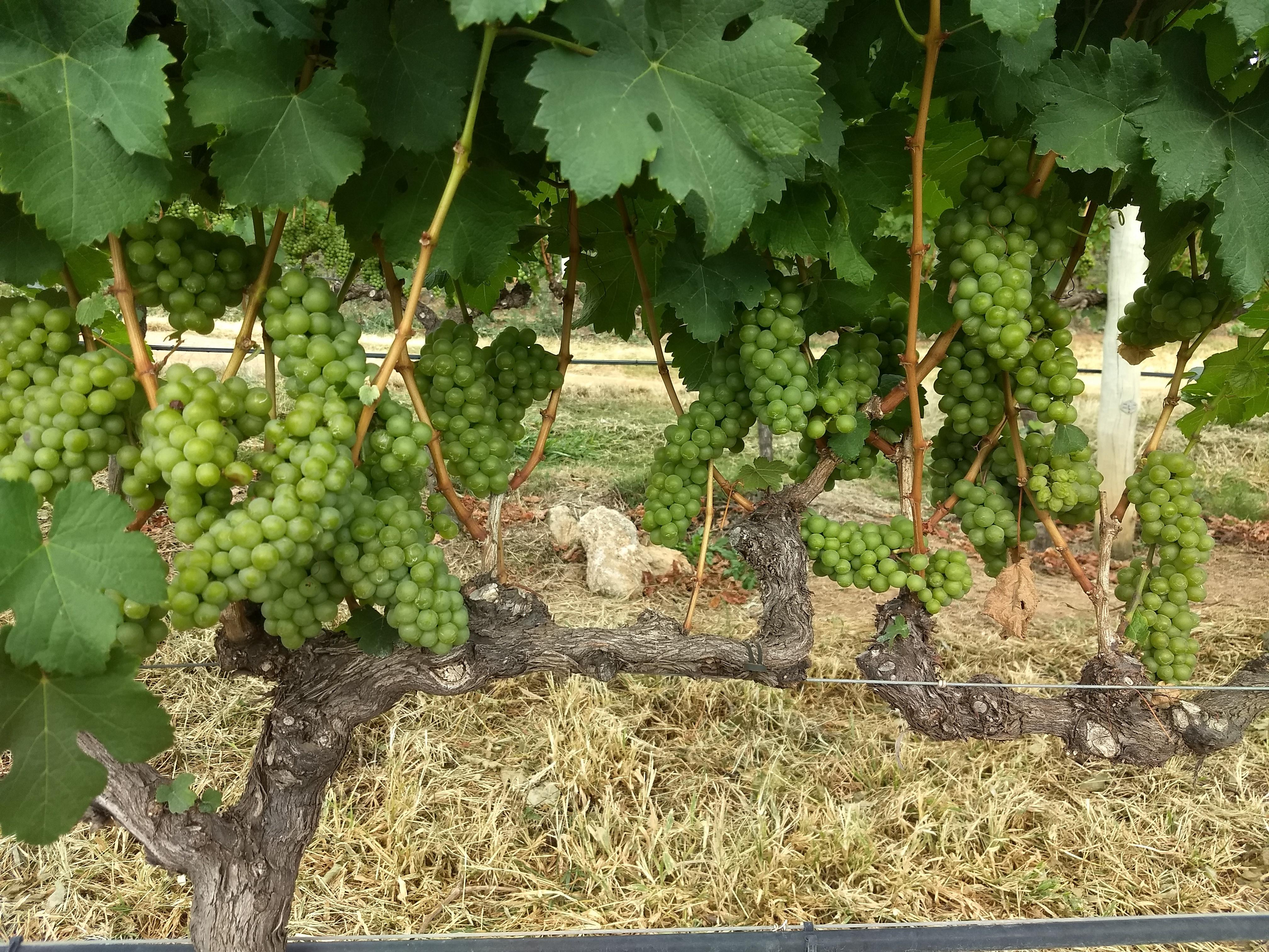leaf: (528, 0, 821, 253), (0, 0, 172, 247), (0, 630, 172, 843), (1132, 32, 1268, 295), (0, 480, 166, 674), (185, 32, 367, 206), (332, 0, 477, 151), (1032, 38, 1163, 171), (653, 221, 769, 342), (177, 0, 316, 55), (488, 41, 546, 152), (748, 182, 830, 257), (0, 194, 63, 286), (970, 0, 1058, 40), (997, 17, 1056, 75), (339, 606, 400, 656), (450, 0, 546, 28), (827, 411, 870, 462), (735, 456, 790, 490), (1224, 0, 1268, 42), (155, 772, 197, 813), (1051, 423, 1088, 455), (1262, 46, 1263, 49), (64, 490, 64, 491), (72, 484, 83, 484)
